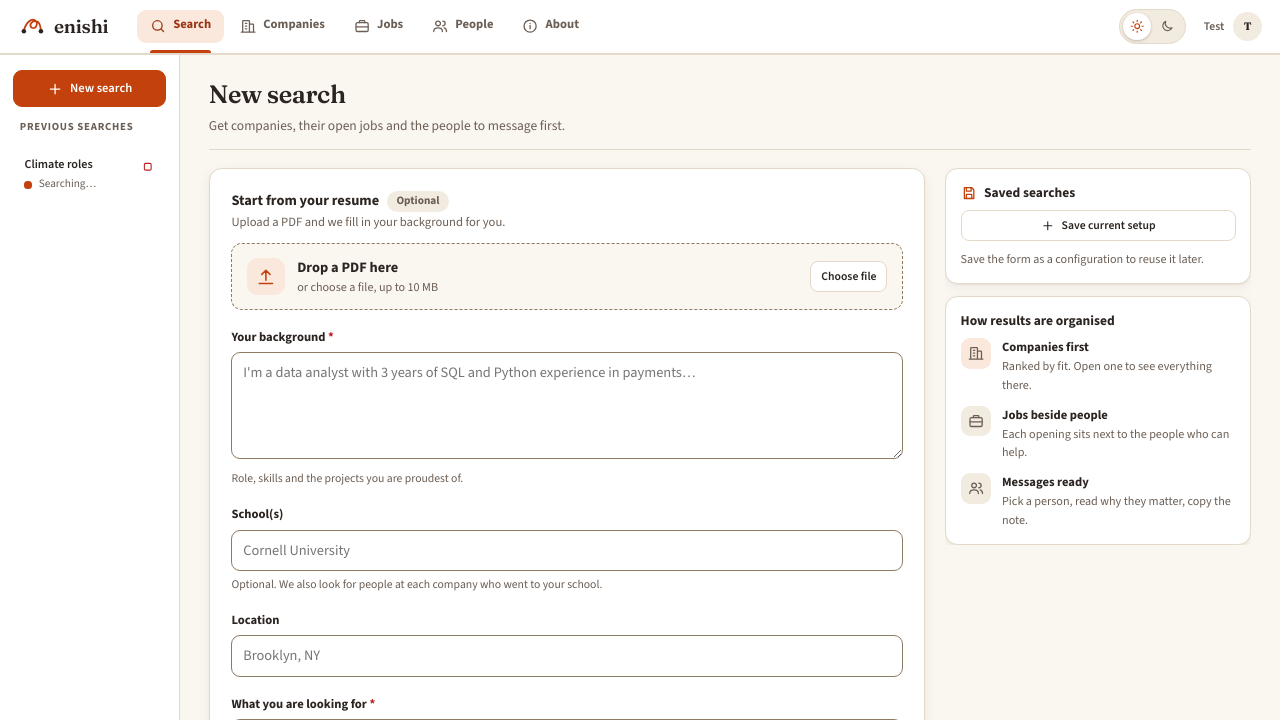
Scenario: App background searches › cancels a running search from the panel and marks it cancelled
Click the button named "Cancel search: Climate roles" at (148, 167), box [134,154,161,181]
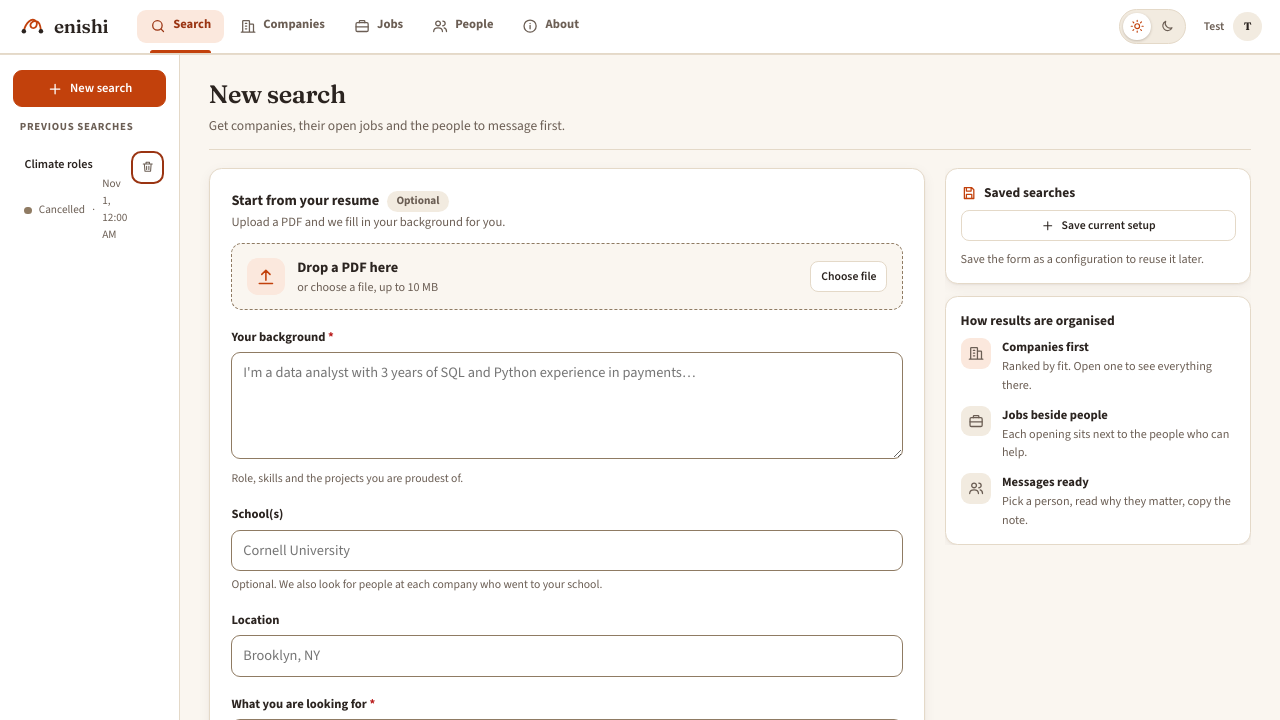
Expected: the text "Cancelled" is shown, [39,202,85,219]
Expected: the text "Searching…" is gone
